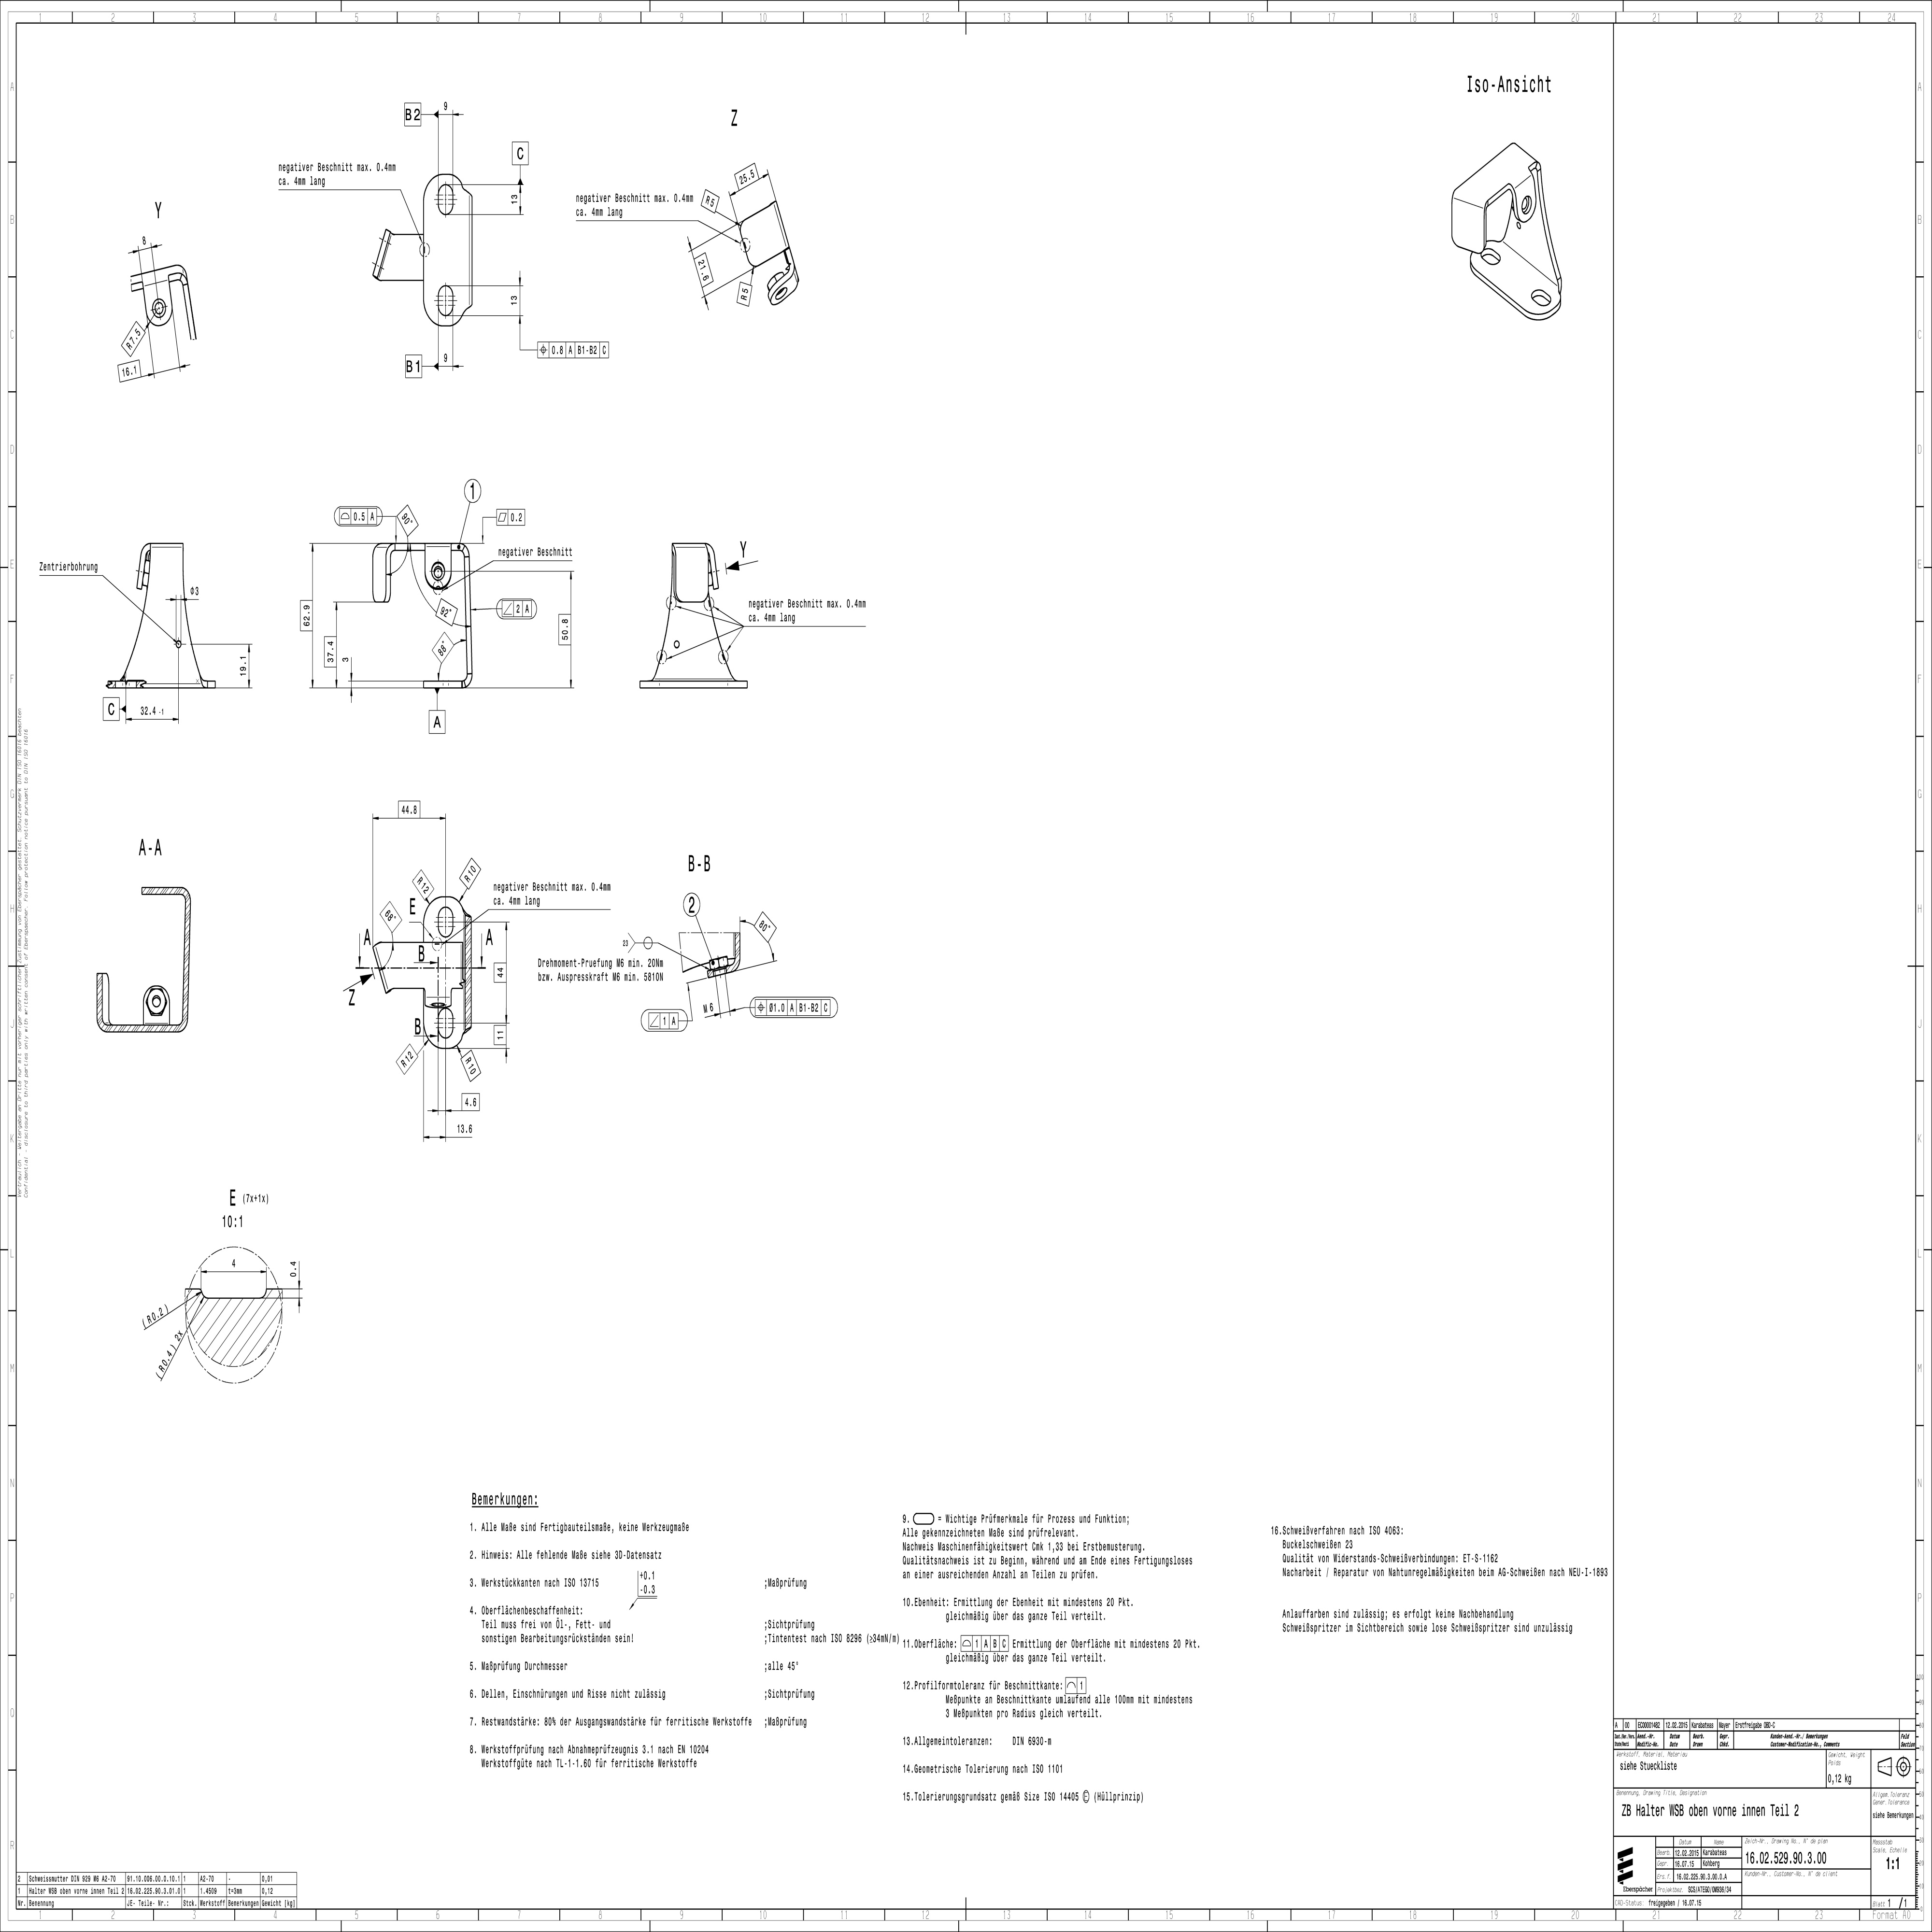BendingEdgeCurve: (464, 671, 474, 686), (179, 272, 189, 287), (462, 543, 471, 557)
InnerContour: (435, 283, 456, 317), (437, 182, 456, 216), (437, 904, 455, 938), (437, 1007, 455, 1039), (430, 563, 448, 582), (150, 299, 168, 317)
